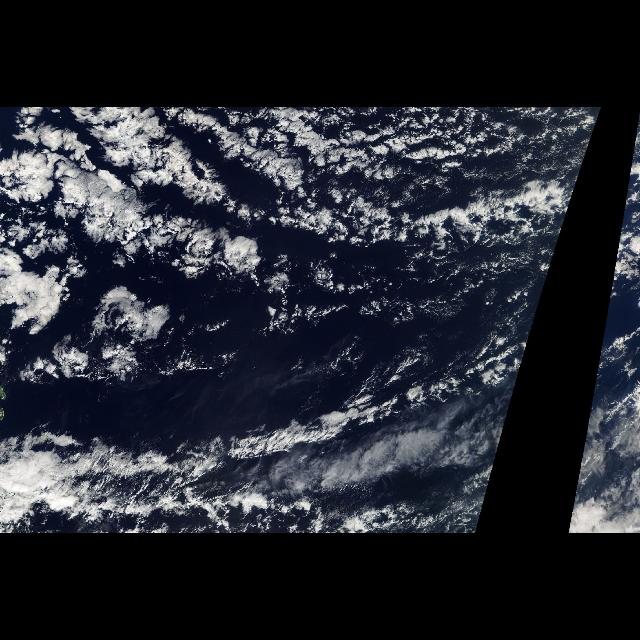Flower: (5, 111, 591, 381)
